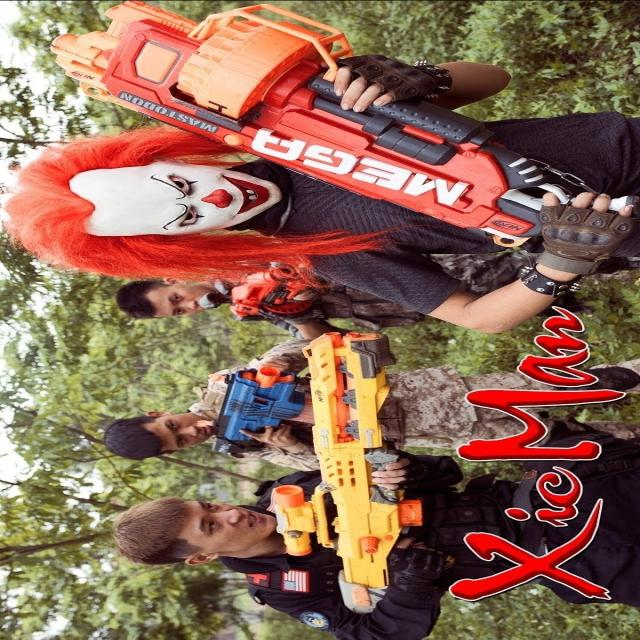Nerf gun: (47, 1, 627, 262), (259, 329, 436, 619), (207, 361, 323, 460), (223, 263, 325, 333)
